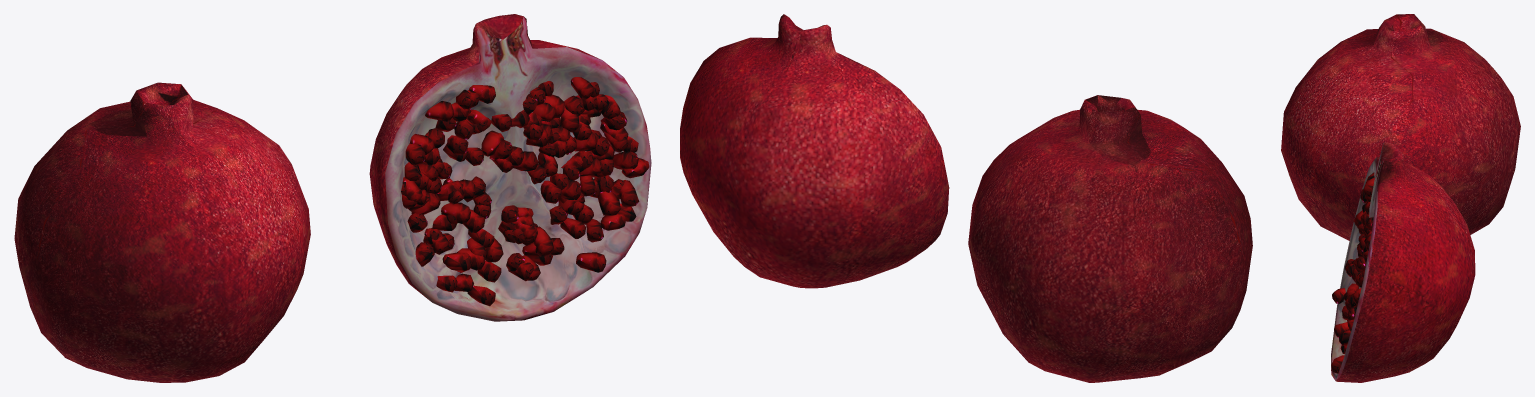
File: pomegranate.glb
3 renders of one model, left to right at view 1: azimuth 30°, elevation 25°; view 2: azimuth 150°, elevation 25°; view 3: azimuth 270°, elevation 25°, orthographic. The views are drawn at different scales.
Visible parts, largest first — view 1: Pom full flat, pom half flat; view 2: Pom full flat, pom half flat; view 3: Pom full flat, pom half flat.
Part boxes in pixels (x1,y1,x2,y2): Pom full flat: (14, 82, 310, 382); pom half flat: (369, 14, 651, 321); Pom full flat: (968, 95, 1252, 382); pom half flat: (680, 14, 949, 288); Pom full flat: (1281, 14, 1520, 240); pom half flat: (1331, 142, 1475, 382).
Bounding box in the file's own units: 472 × 211 × 207.
Materials: 4 (4 with a texture image).
